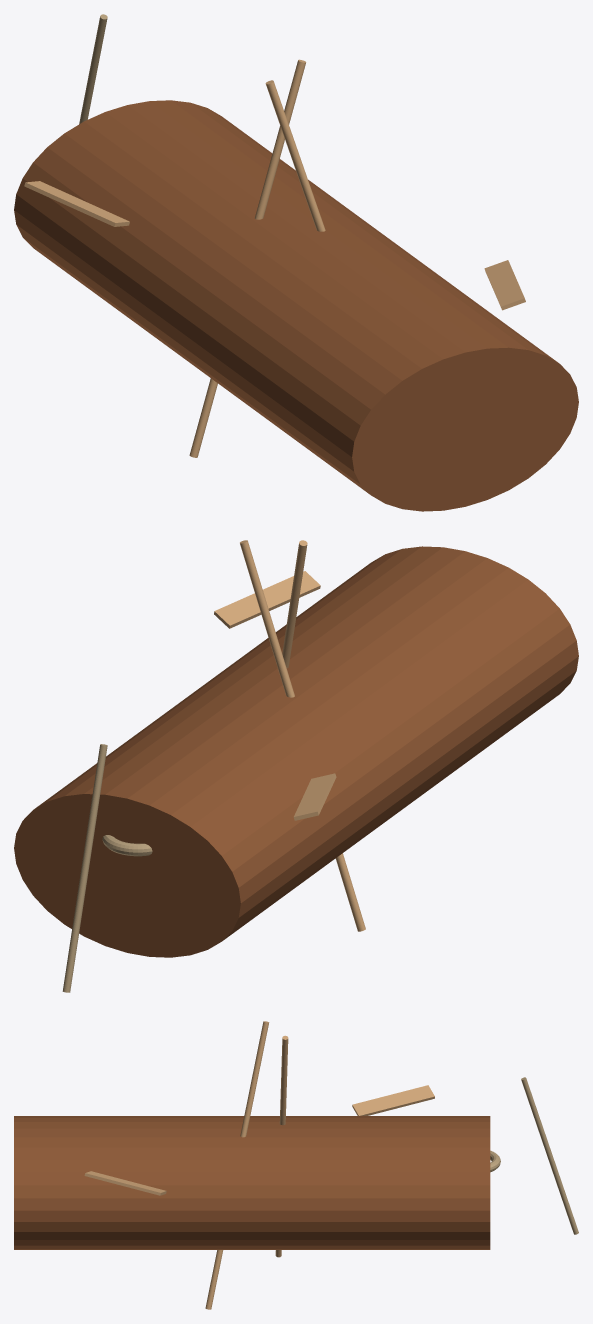
The model's file is rowboat-moored.glb.
The picture shows the model from 3 angles, top to bottom: view 1: azimuth 30°, elevation 25°; view 2: azimuth 150°, elevation 25°; view 3: azimuth 270°, elevation 25°; orthographic projection. The views are drawn at different scales.
Visible parts, largest first — view 1: Cylinder, Cylinder.001, Cylinder.002, Cube.004, Cube.005, Cylinder.003; view 2: Cylinder, Cylinder.001, Cylinder.003, Cube.005, Cylinder.002, Cube.004, Torus; view 3: Cylinder, Cube.004, Cylinder.002, Cylinder.003, Cylinder.001, Cube.005.
Part boxes in pixels (x1,y1,x2,y2): Cylinder: (14, 100, 578, 511); Cylinder.001: (189, 59, 306, 457); Cylinder.002: (265, 80, 325, 231); Cube.004: (24, 181, 129, 226); Cube.005: (484, 260, 525, 310); Cylinder.003: (79, 14, 107, 124); Cylinder: (14, 546, 578, 957); Cylinder.001: (240, 540, 365, 931); Cylinder.003: (62, 744, 107, 992); Cube.005: (214, 571, 320, 628); Cylinder.002: (282, 540, 307, 668); Cube.004: (293, 773, 336, 820); Torus: (102, 835, 152, 856); Cylinder: (14, 1116, 490, 1249); Cube.004: (352, 1085, 434, 1115); Cylinder.002: (205, 1021, 269, 1309); Cylinder.003: (521, 1077, 578, 1234); Cylinder.001: (275, 1035, 288, 1257); Cube.005: (84, 1171, 166, 1195).
Bounding box in the file's own units: 1.61 × 1.91 × 3.79.
